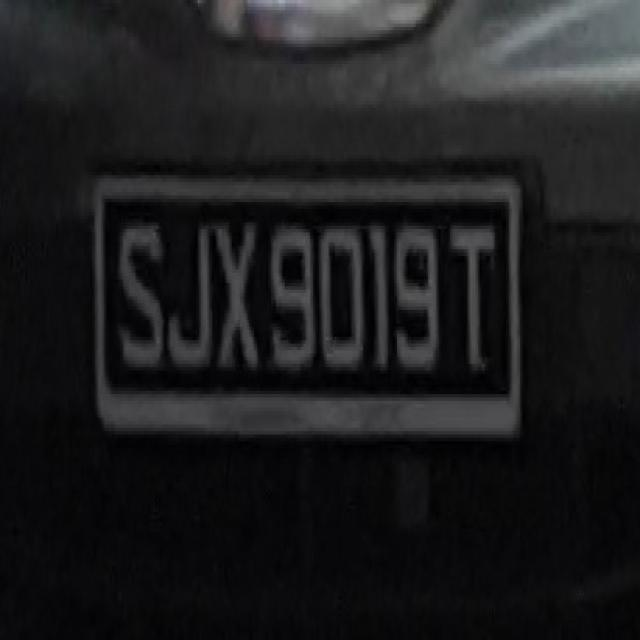0: (314, 219, 368, 377)
1: (367, 212, 391, 384)
9: (394, 226, 444, 374), (270, 219, 314, 367)
J: (163, 209, 215, 370)
S: (116, 216, 166, 377)
T: (444, 215, 500, 374)
X: (212, 208, 258, 380)
